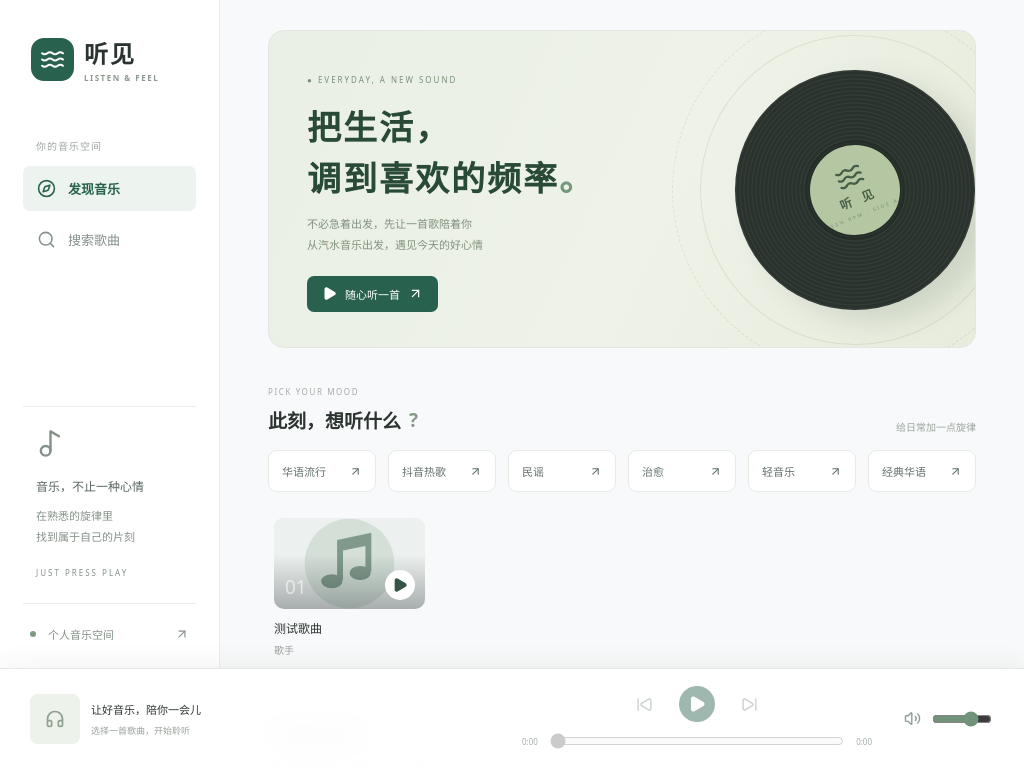
submits using the visible search button inside the page content
Click the button "搜索歌曲" at (110, 240), box top-left (23, 217), bottom-right (196, 262)
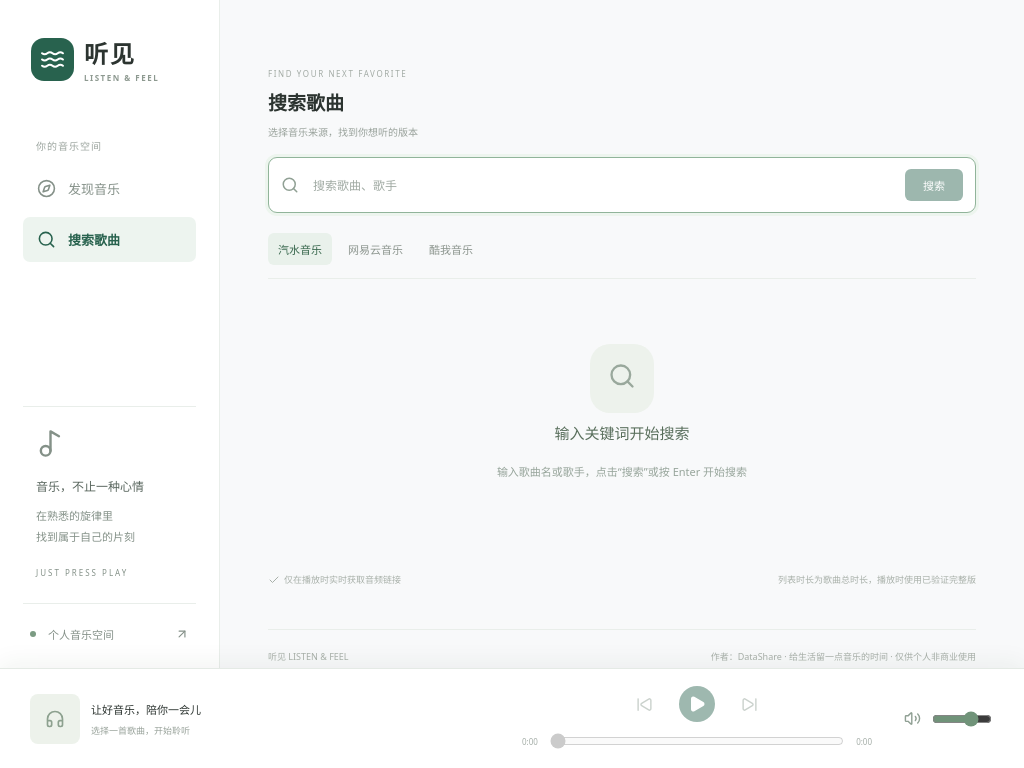
Expected: the submit button reads "搜索", top-left (905, 169), bottom-right (963, 201)
Expected: the submit button is disabled, top-left (905, 169), bottom-right (963, 201)
Type "四块五" into the field with placeholder "搜索歌曲、歌手" at (602, 185), box top-left (311, 176), bottom-right (893, 194)
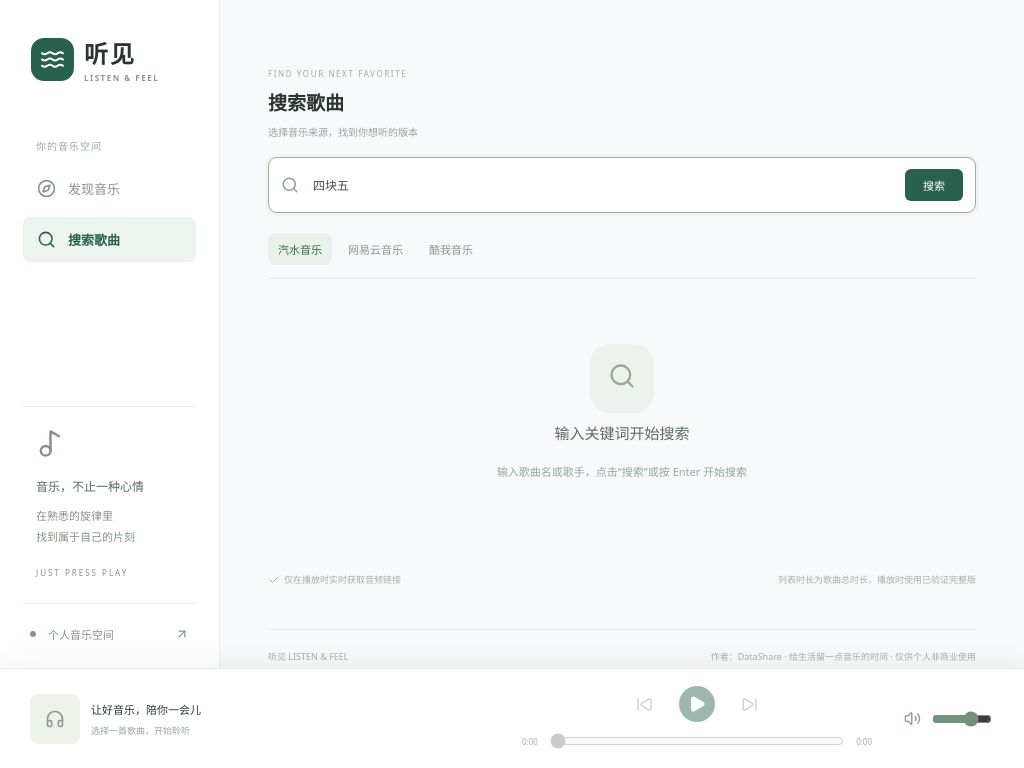
Expected: the submit button is enabled
Click the submit button at (934, 185), box top-left (905, 169), bottom-right (963, 201)
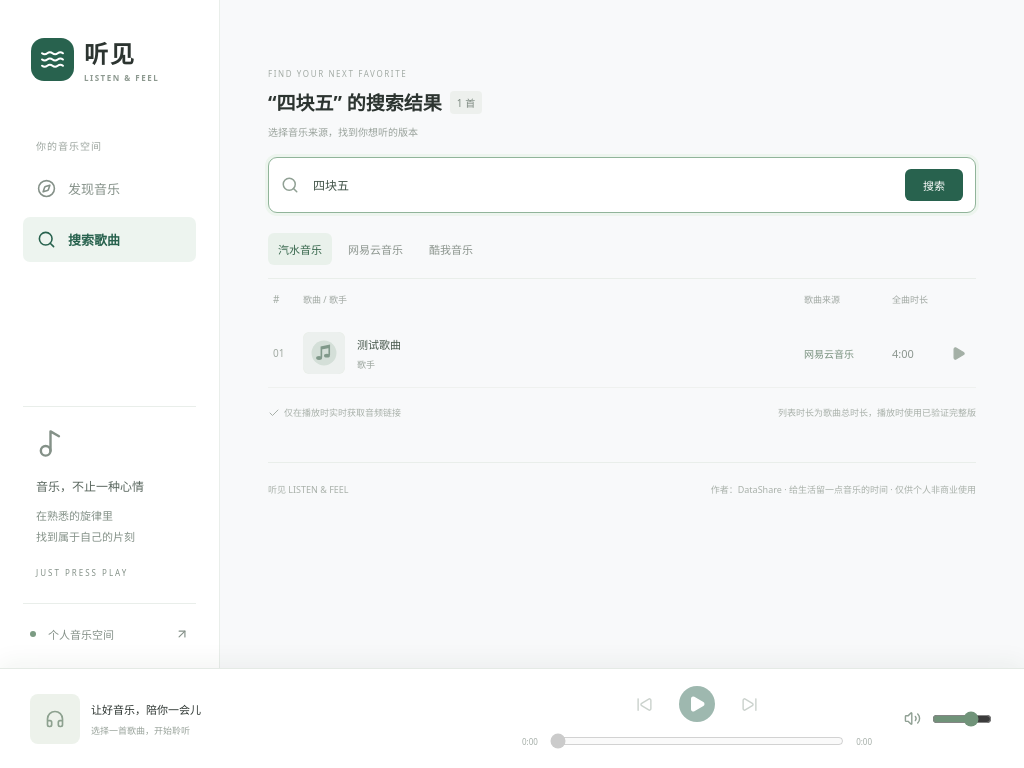
Expected: the heading "“四块五” 的搜索结果 1 首" is shown, top-left (268, 88), bottom-right (482, 116)
